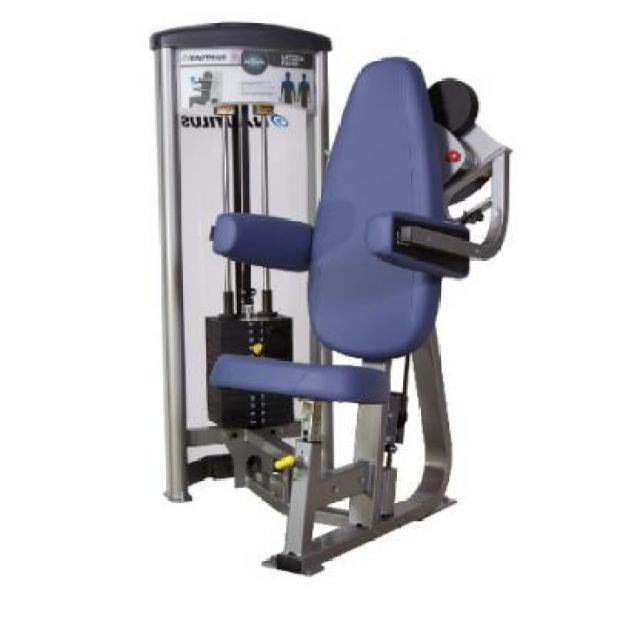lateral raises machine: (151, 21, 512, 577)
